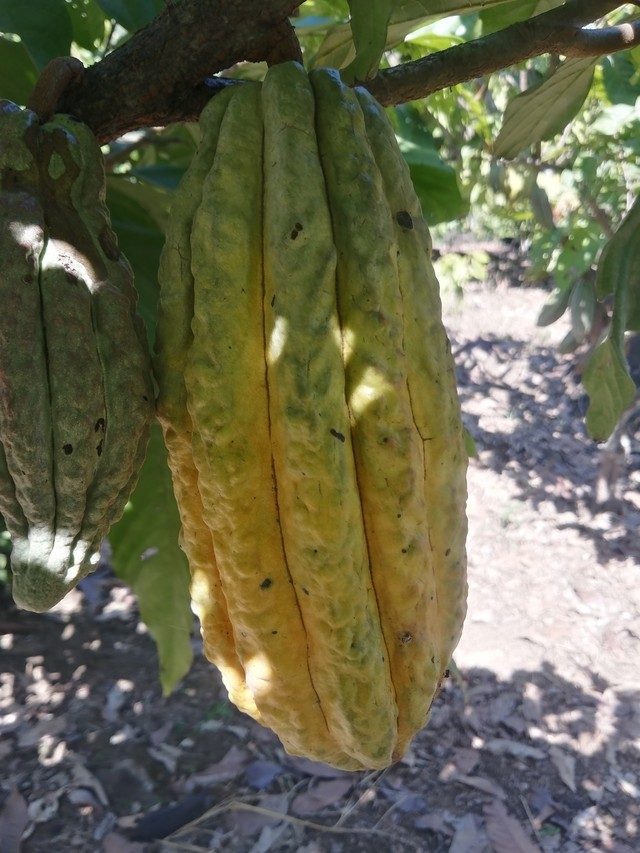Health: (119, 38, 506, 784)
